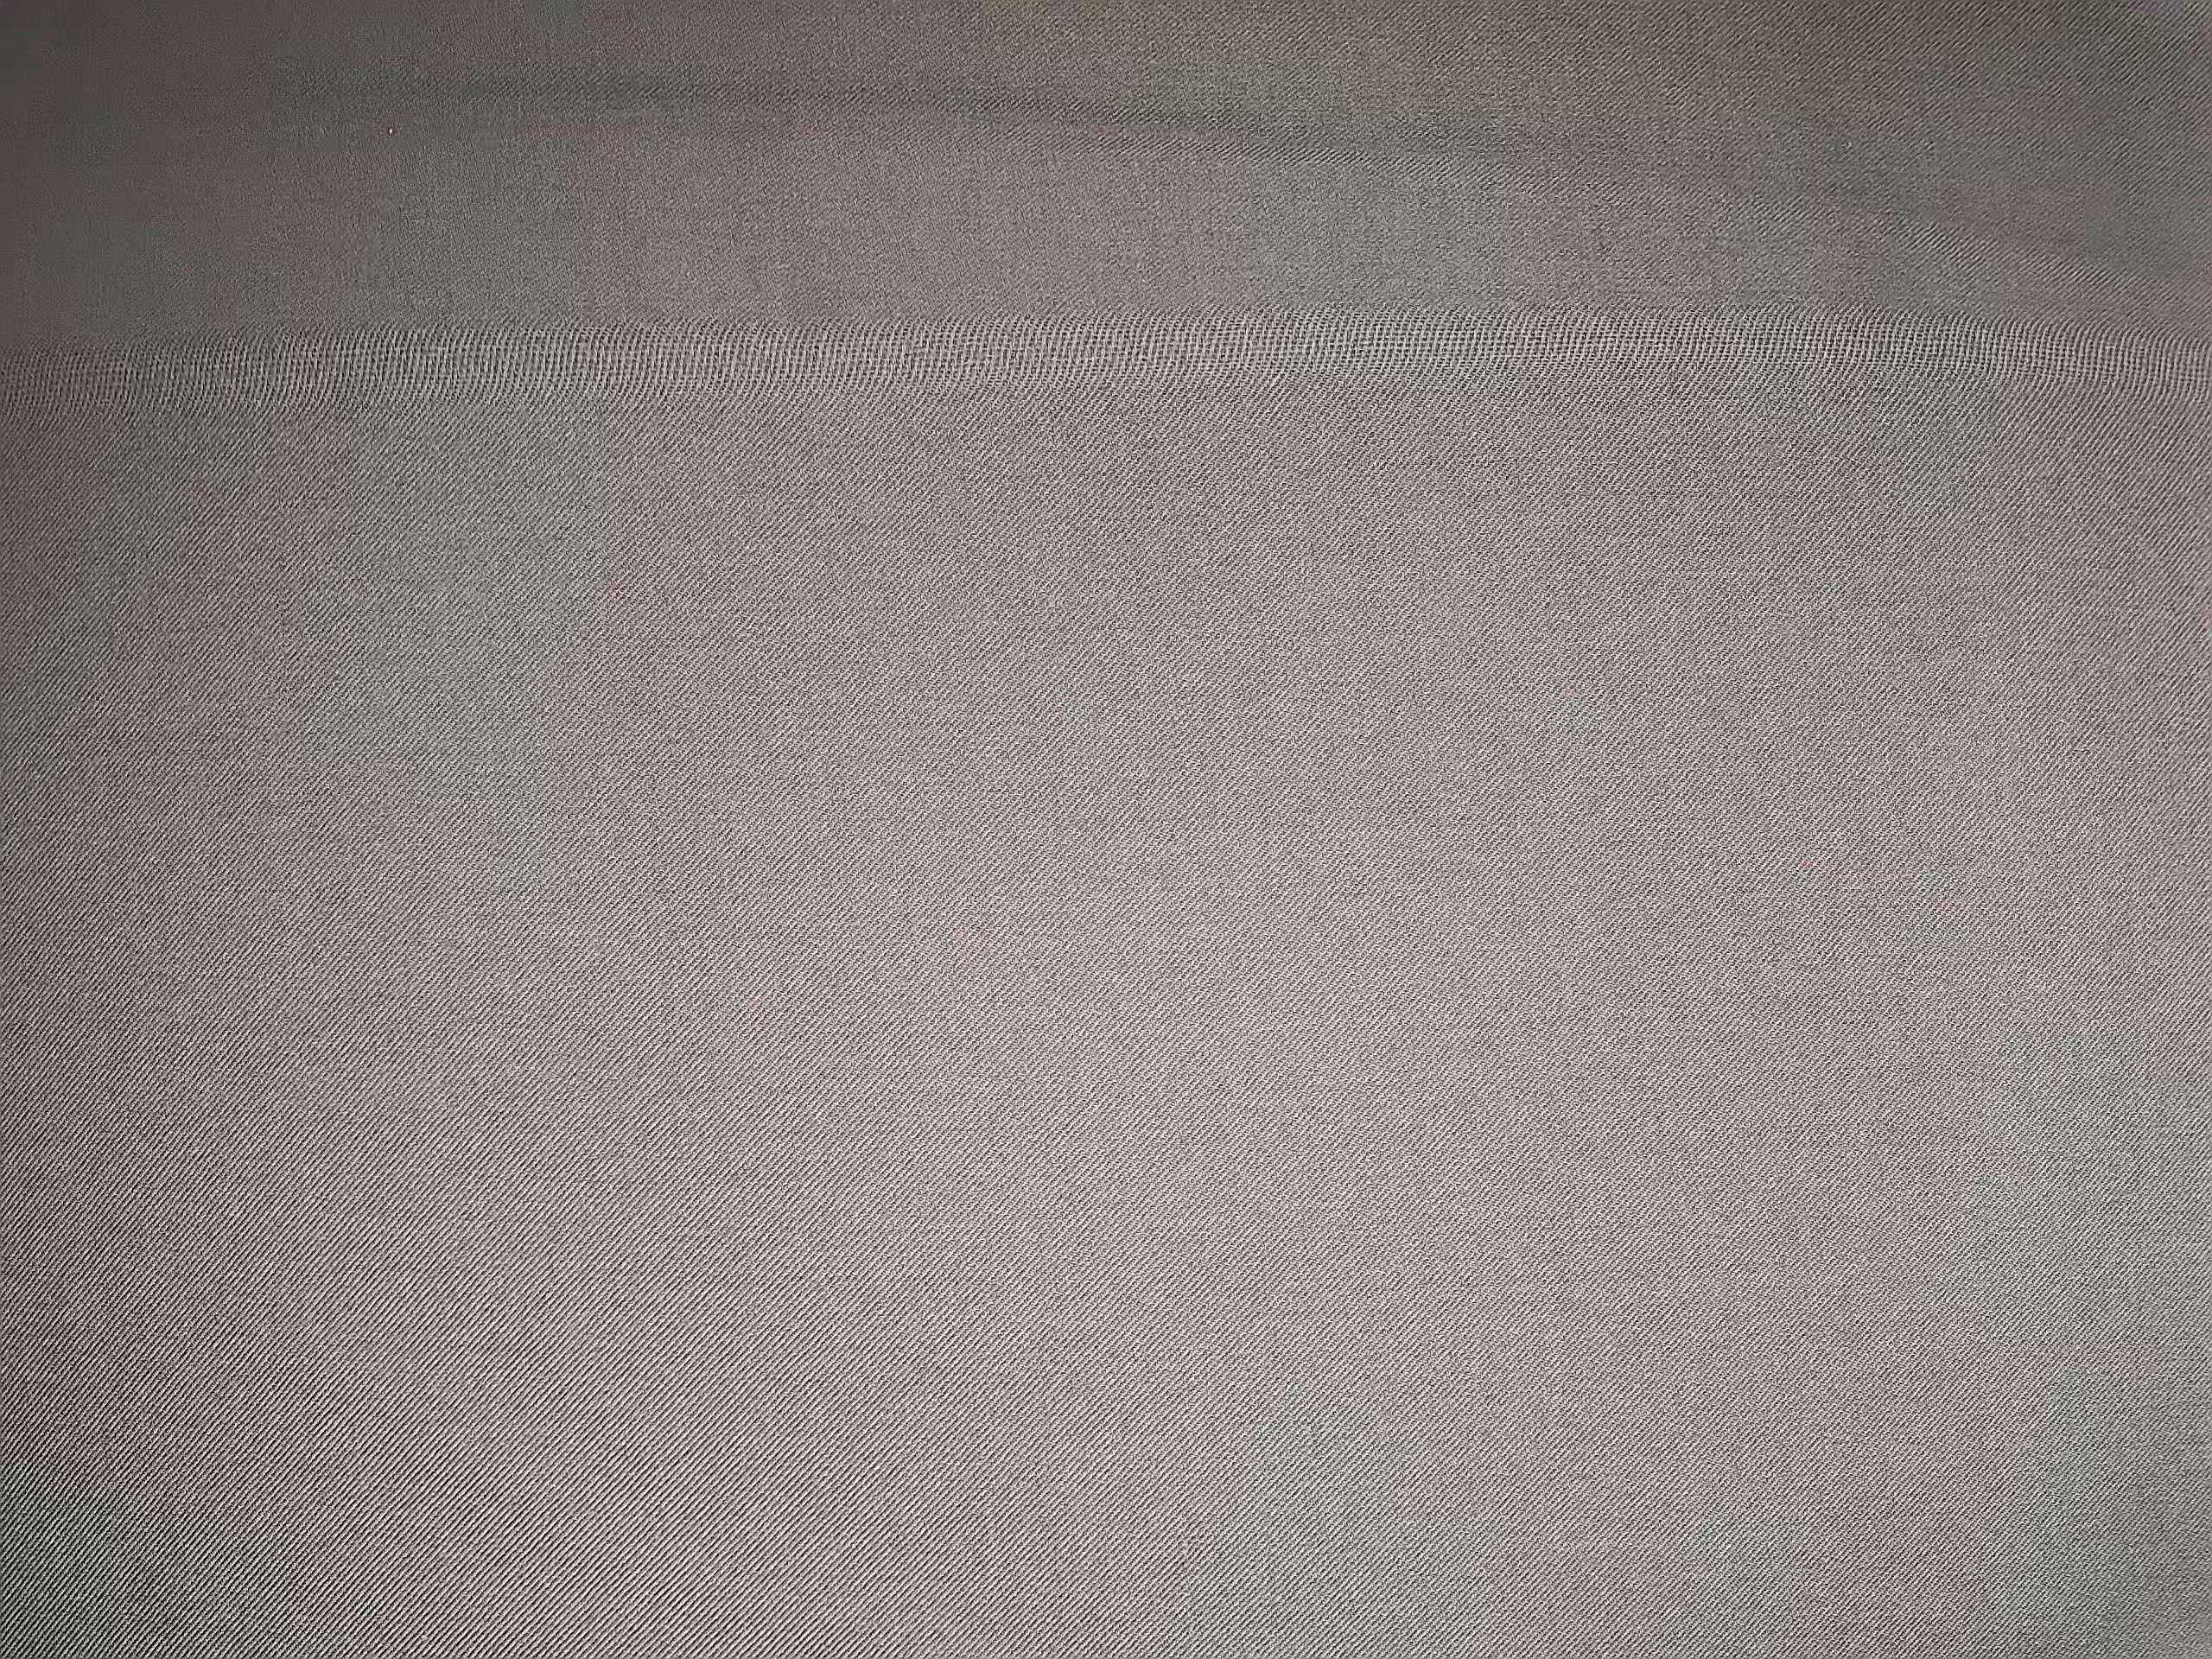thin-spinning: (7, 301, 2196, 430)
